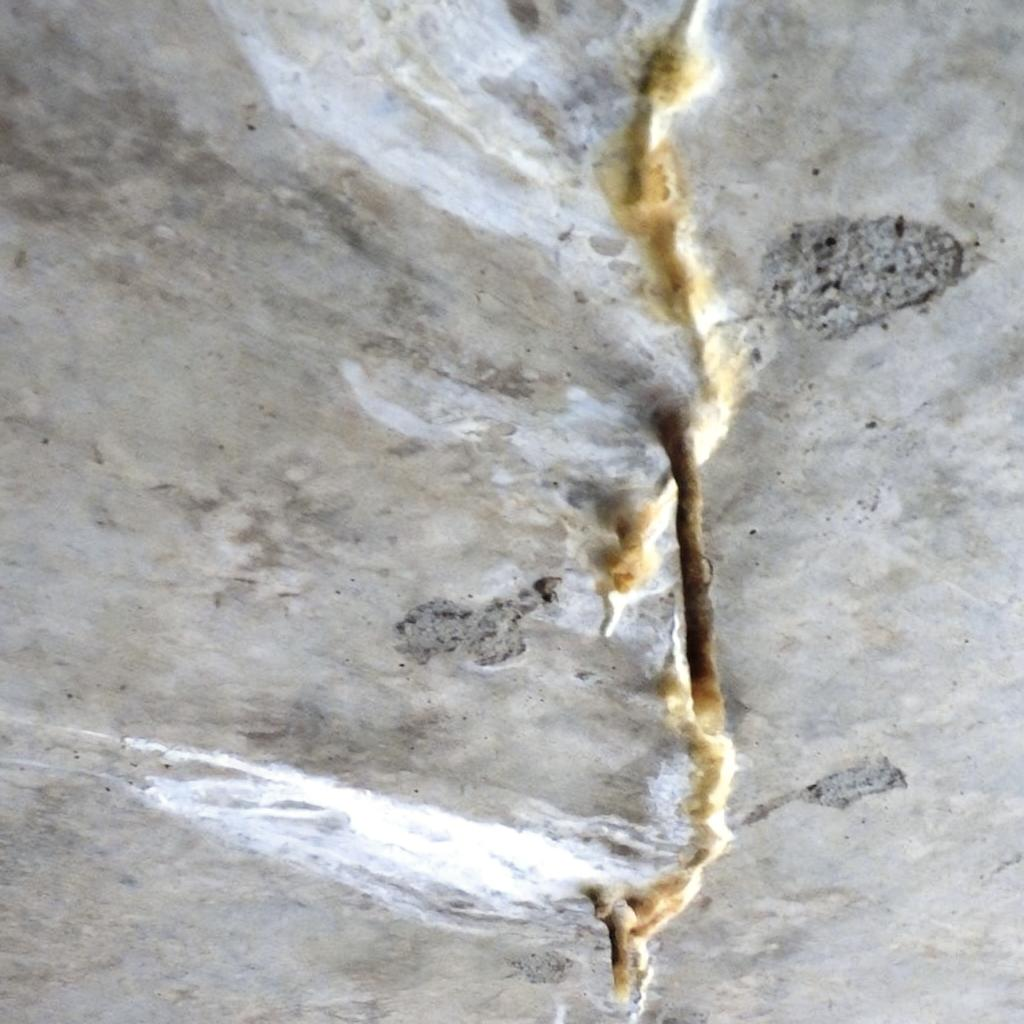exposed_rebar: (656, 408, 724, 731)
spalling: (586, 0, 746, 998)
